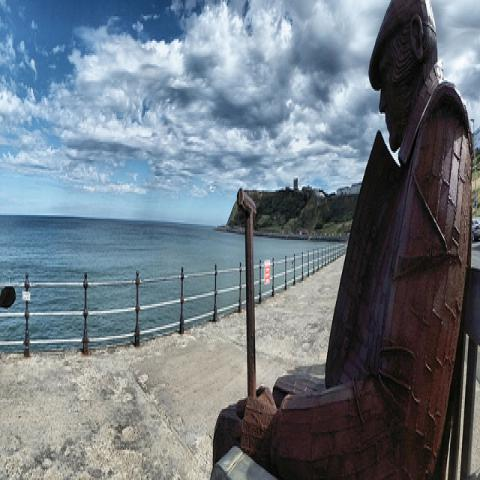car: (472, 218, 479, 242)
